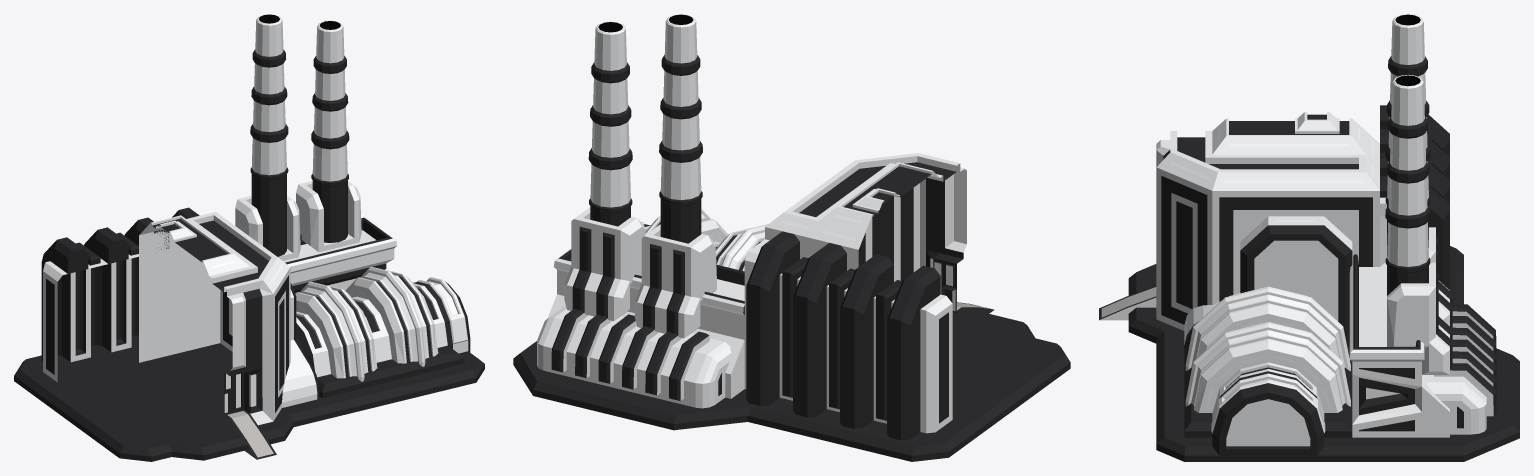
Rendered from CoalPowerStation.dae.
3 views of the same model, side by side, from view 1: azimuth 30°, elevation 25°; view 2: azimuth 150°, elevation 25°; view 3: azimuth 270°, elevation 25° (orthographic). The views are drawn at different scales.
Visible parts, largest first — view 1: CoalPowerStation_Foundation, CoalPowerStation_Body, CoalPowerStation_Chimneys, CoalPowerStation_Generator, CoalPowerStation_BodyPart, CoalPowerStation_ChimneyBody, CoalPowerStation_GeneratorFoundation, CoalPowerStation_BodySideParts; view 2: CoalPowerStation_BodyPart, CoalPowerStation_Chimneys, CoalPowerStation_Foundation, CoalPowerStation_Body, CoalPowerStation_ChimneyBody, CoalPowerStation_Generator; view 3: CoalPowerStation_Body, CoalPowerStation_Generator, CoalPowerStation_ChimneyBody, CoalPowerStation_Chimneys, CoalPowerStation_Foundation, CoalPowerStation_BodySideParts, CoalPowerStation_BodyPart, CoalPowerStation_GeneratorFoundation.
Boxes of the visible parts, box(x1,y1,x2,y2) form: CoalPowerStation_Foundation: box(14, 335, 484, 461); CoalPowerStation_Body: box(139, 212, 290, 459); CoalPowerStation_Chimneys: box(235, 14, 361, 260); CoalPowerStation_Generator: box(295, 267, 470, 381); CoalPowerStation_BodyPart: box(41, 207, 199, 382); CoalPowerStation_ChimneyBody: box(283, 217, 396, 293); CoalPowerStation_GeneratorFoundation: box(296, 336, 464, 397); CoalPowerStation_BodySideParts: box(282, 283, 319, 407); CoalPowerStation_BodyPart: box(744, 231, 952, 440); CoalPowerStation_Chimneys: box(564, 14, 716, 338); CoalPowerStation_Foundation: box(513, 308, 1070, 461); CoalPowerStation_Body: box(765, 153, 994, 315); CoalPowerStation_ChimneyBody: box(537, 249, 744, 408); CoalPowerStation_Generator: box(641, 209, 768, 271); CoalPowerStation_Body: box(1099, 112, 1379, 330); CoalPowerStation_Generator: box(1185, 286, 1350, 455); CoalPowerStation_ChimneyBody: box(1349, 254, 1496, 437); CoalPowerStation_Chimneys: box(1385, 14, 1452, 374); CoalPowerStation_Foundation: box(1128, 246, 1519, 461); CoalPowerStation_BodySideParts: box(1184, 216, 1352, 348); CoalPowerStation_BodyPart: box(1380, 105, 1449, 289); CoalPowerStation_GeneratorFoundation: box(1184, 346, 1352, 437).
Bounding box in the file's own units: 34.2 × 28.6 × 27.83.
